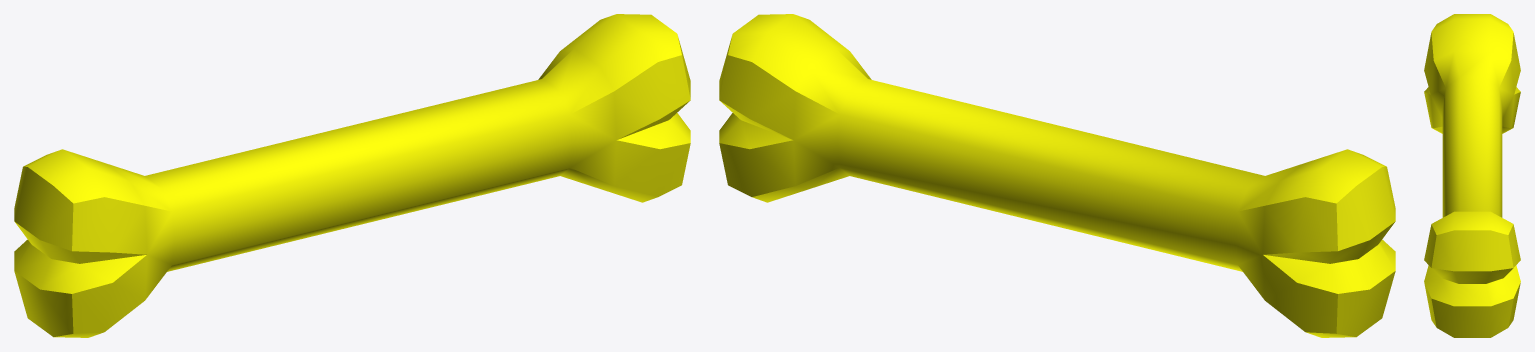
The model's file is kaykit-bone-c.glb.
3 renders of one model, left to right at view 1: azimuth 30°, elevation 25°; view 2: azimuth 150°, elevation 25°; view 3: azimuth 270°, elevation 25°, orthographic. The views are drawn at different scales.
Parts seen in each view (by area): view 1: bone_C; view 2: bone_C; view 3: bone_C.
Part boxes in pixels (x1,y1,x2,y2): bone_C: (14, 14, 690, 337); bone_C: (719, 14, 1395, 337); bone_C: (1424, 14, 1520, 337).
Size of the model in its own units: 1.11 by 0.2761 by 0.2007.
